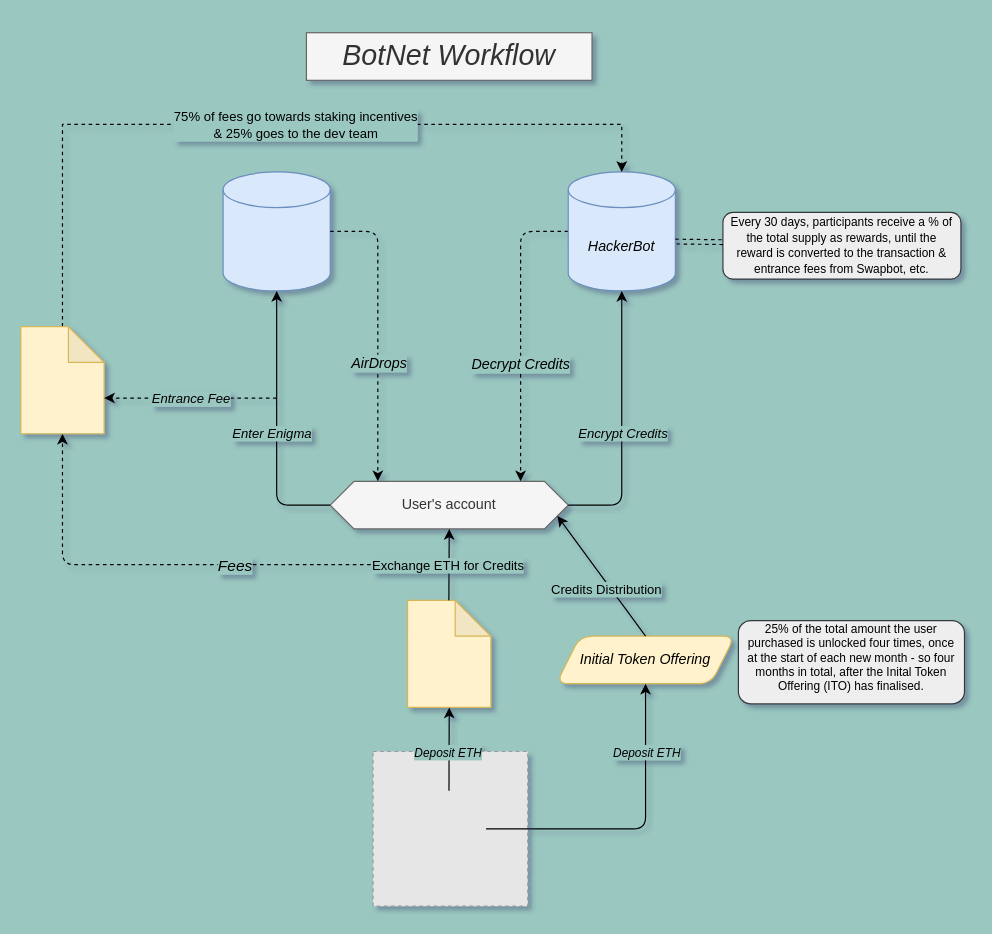
The diagram is 992 pixels wide and 934 high, and some of its shapes have lost their labels. Grey dashed boxes stand in for pictures. Here are the shapes that lost their labels. From the top down, the box of each, then its label:
(222, 171, 330, 291): DistributionBot
(20, 325, 104, 434): CollectorBot
(406, 599, 491, 707): SwapBot
